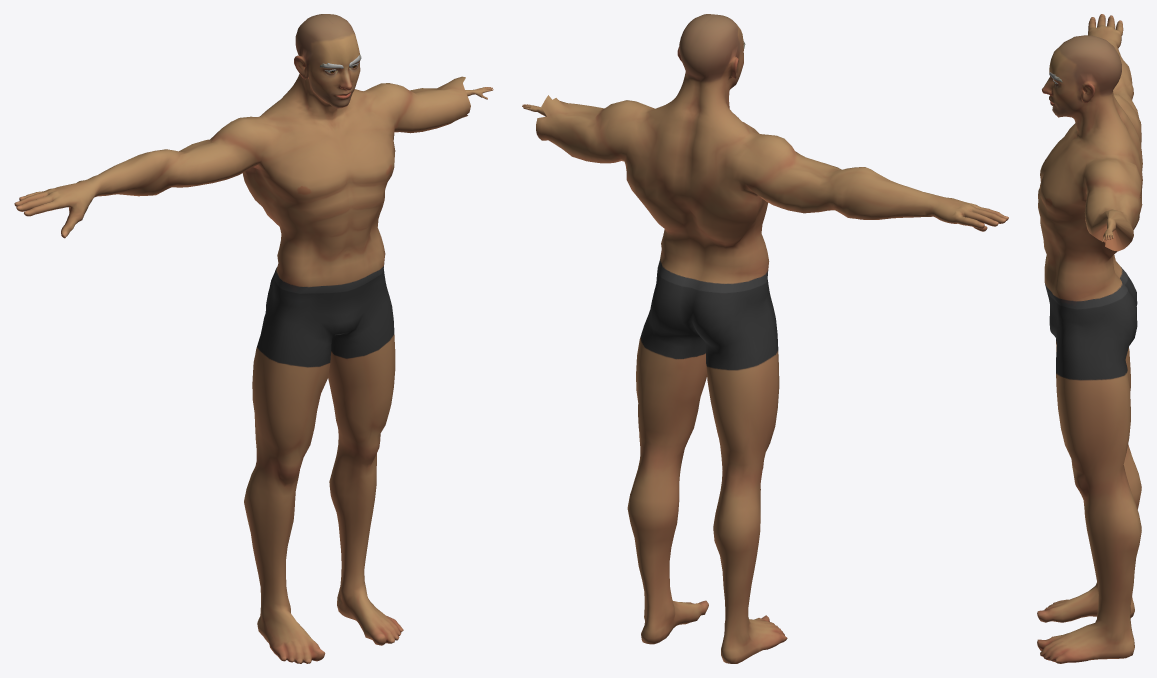
File: asymmetric-static.glb
3 views of the same model, side by side, from view 1: azimuth 30°, elevation 25°; view 2: azimuth 150°, elevation 25°; view 3: azimuth 270°, elevation 25° (orthographic). The views are drawn at different scales.
Parts seen in each view (by area): view 1: SuperHero_Male; view 2: SuperHero_Male; view 3: SuperHero_Male.
Part boxes in pixels (x1,y1,x2,y2): SuperHero_Male: (14,14,493,663); SuperHero_Male: (522,14,1008,663); SuperHero_Male: (1037,14,1142,663).
Size of the model in its own units: 1.47 by 1.82 by 0.2915.
Materials: 3 (3 with a texture image).
